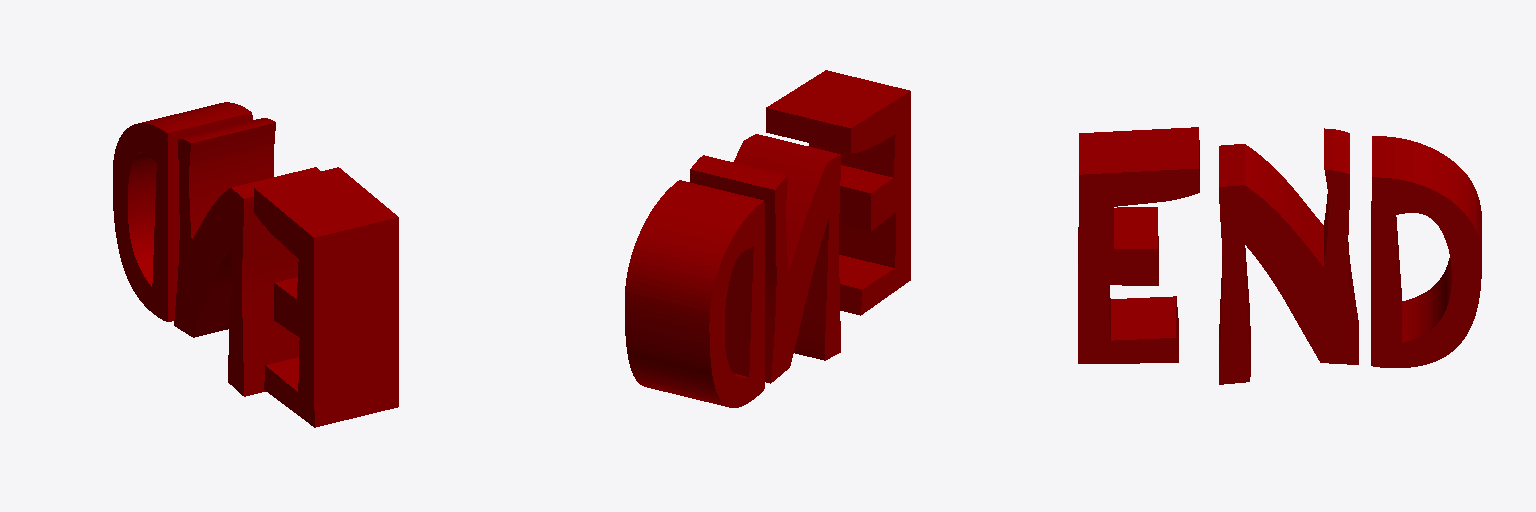
The model's file is end.obj.
3 renders of one model, left to right at view 1: azimuth 30°, elevation 25°; view 2: azimuth 150°, elevation 25°; view 3: azimuth 270°, elevation 25°, orthographic.
Parts seen in each view (by area): view 1: End; view 2: End; view 3: End.
Part boxes in pixels (x1,y1,x2,y2): End: (113,102,398,427); End: (625,70,910,407); End: (1078,127,1481,384).
Bounding box in the file's own units: 0.304 × 0.7402 × 1.25.